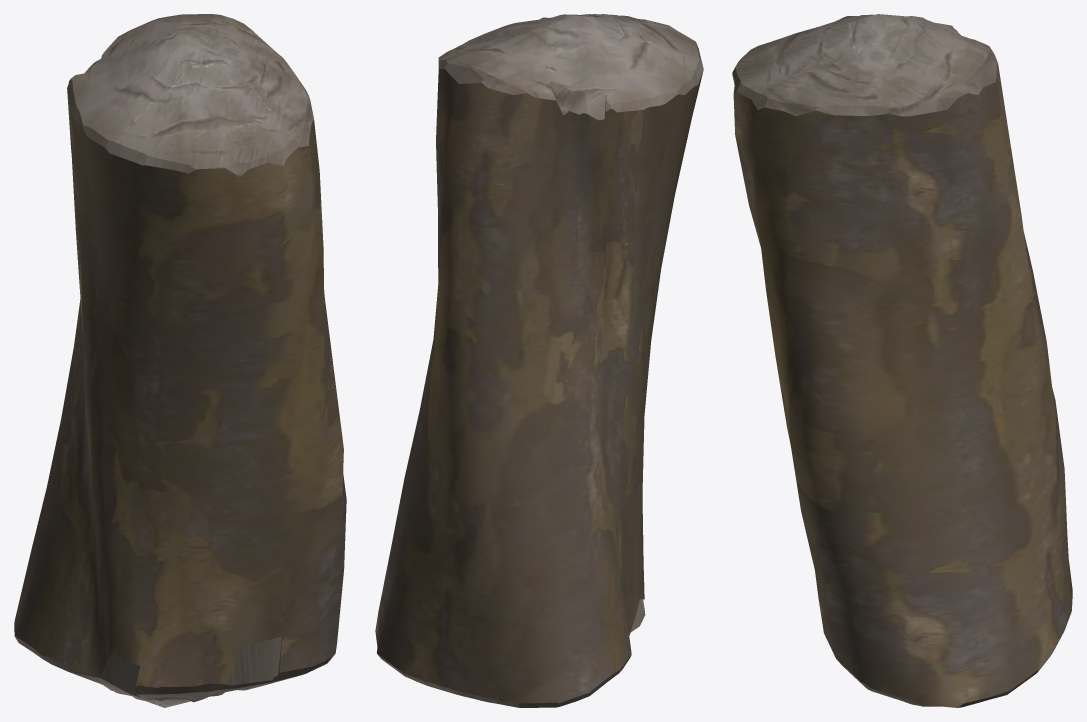
3 views of the same model, side by side, from view 1: azimuth 30°, elevation 25°; view 2: azimuth 150°, elevation 25°; view 3: azimuth 270°, elevation 25° (orthographic). The views are drawn at different scales.
Visible parts, largest first — view 1: SM_Yew_02_quarter_01_LOD0; view 2: SM_Yew_02_quarter_01_LOD0; view 3: SM_Yew_02_quarter_01_LOD0.
Part boxes in pixels (x1,y1,x2,y2): SM_Yew_02_quarter_01_LOD0: (14, 14, 346, 707); SM_Yew_02_quarter_01_LOD0: (375, 14, 703, 707); SM_Yew_02_quarter_01_LOD0: (732, 14, 1072, 707).
Bounding box in the file's own units: 0.9917 × 2.41 × 1.15.
1 material, 1 textured.
